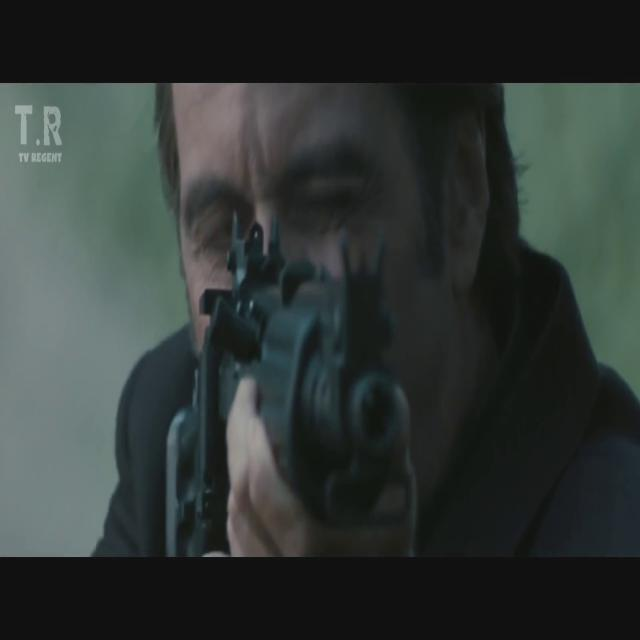long weapon: (179, 211, 409, 568)
